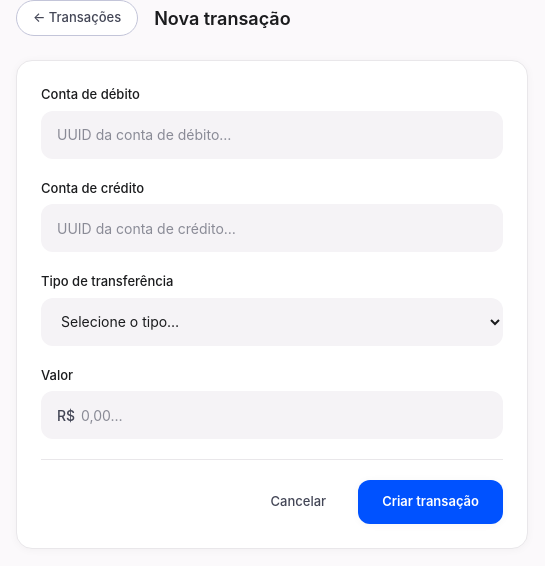
it: web/CreateTransactionView — TI-04 › impede letras e caracteres especiais e limita o valor a duas casas decimais
In the field labelled "Valor": (272, 415) [41,391,503,439], type "abc1.000,011xyz"
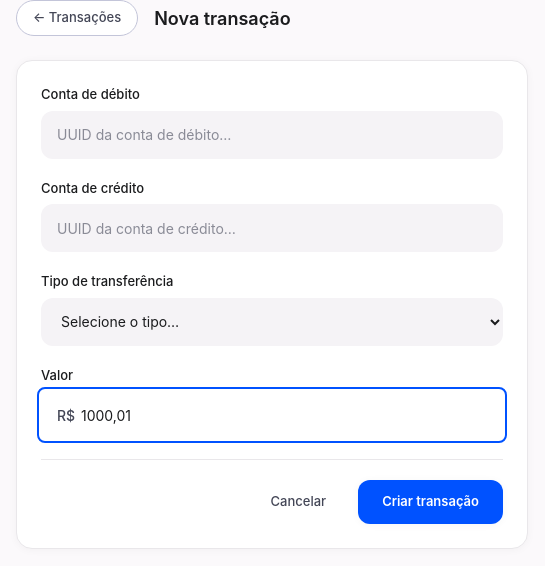
Check: the field labelled "Valor" holds "1000,01", box [41,391,503,439]
